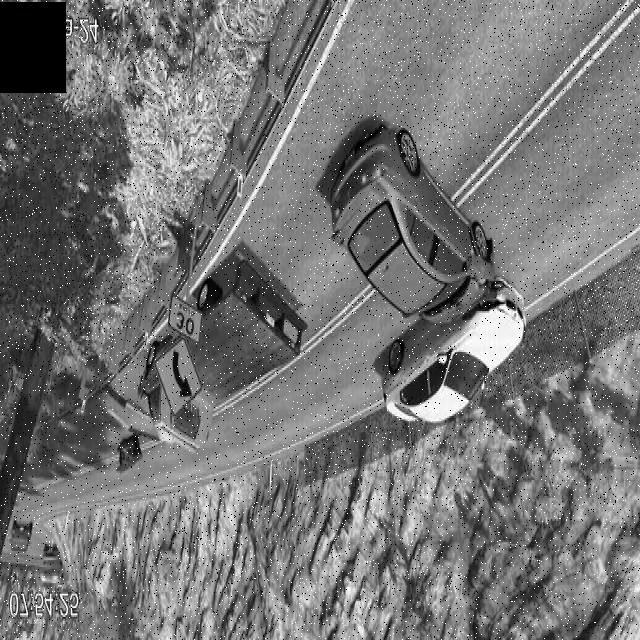moderate: (323, 126, 530, 436)
